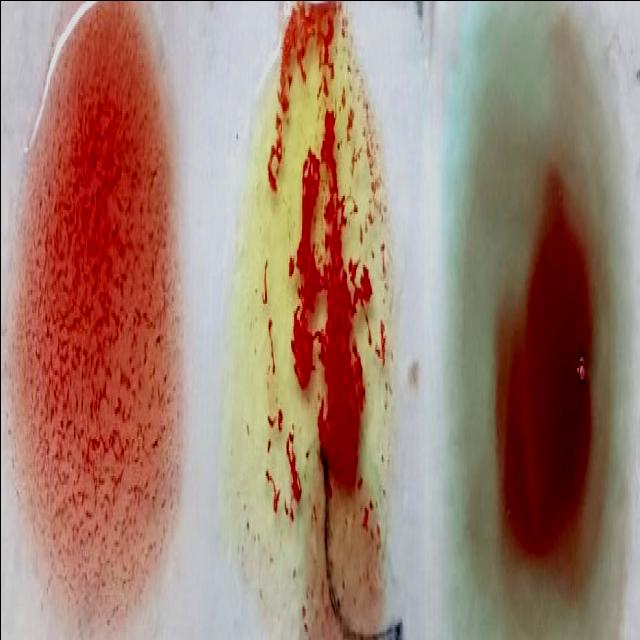B: (254, 16, 386, 640)
D: (21, 23, 170, 640)
